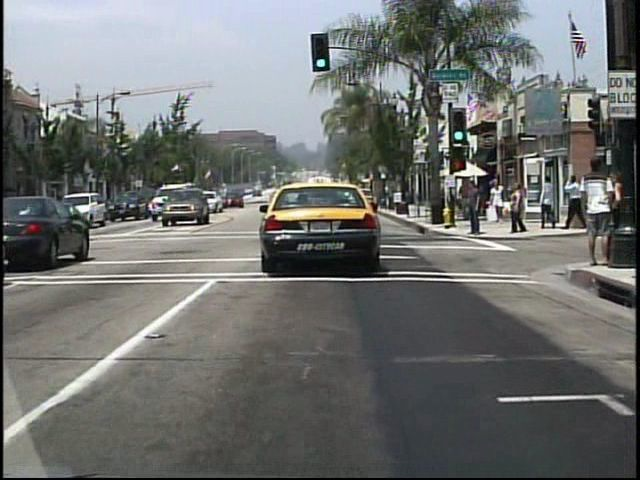person: (579, 152, 616, 271), (561, 171, 585, 230), (465, 182, 484, 239), (540, 174, 558, 230), (458, 179, 478, 226), (511, 182, 529, 233), (491, 179, 508, 226)
